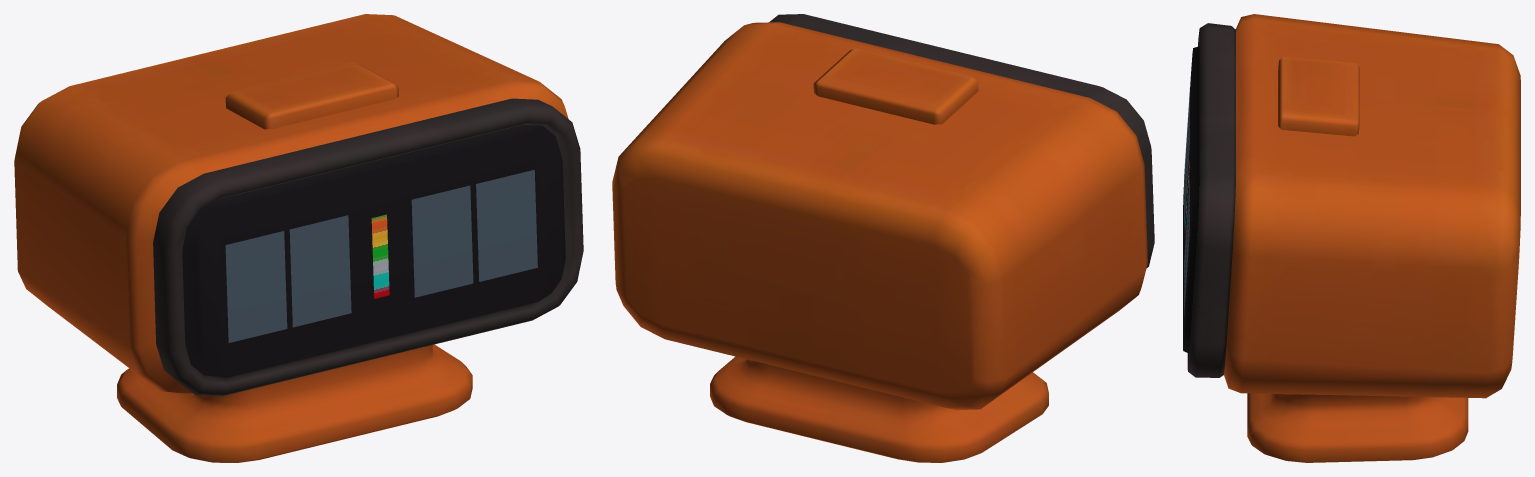
The picture shows the model from 3 angles, left to right: view 1: azimuth 30°, elevation 25°; view 2: azimuth 150°, elevation 25°; view 3: azimuth 270°, elevation 25°; orthographic projection. The views are drawn at different scales.
Size of the model in its own units: 5.91 by 4.16 by 4.09.
3 materials, 2 textured.
